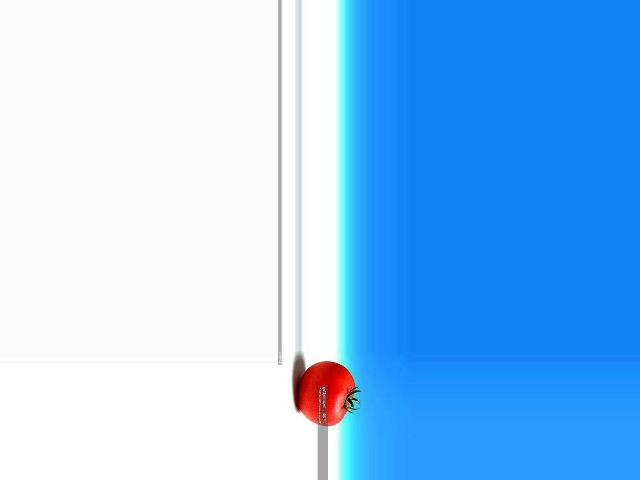tomato: (299, 362, 354, 427)
